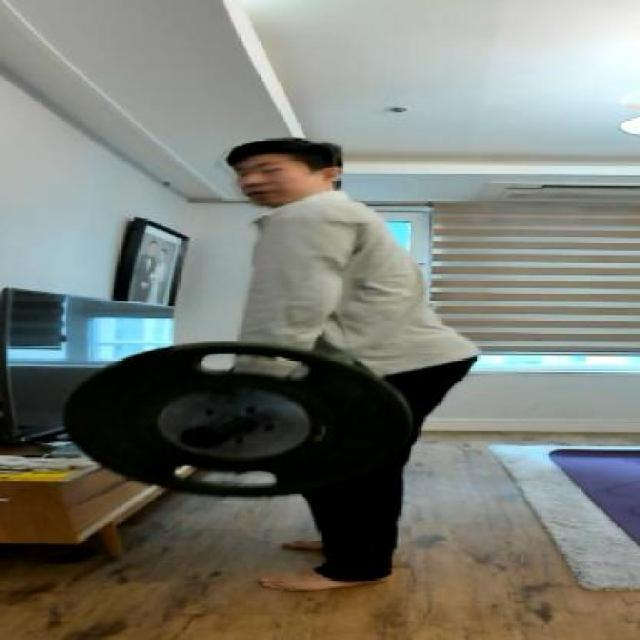Barbell: (171, 418, 232, 450)
